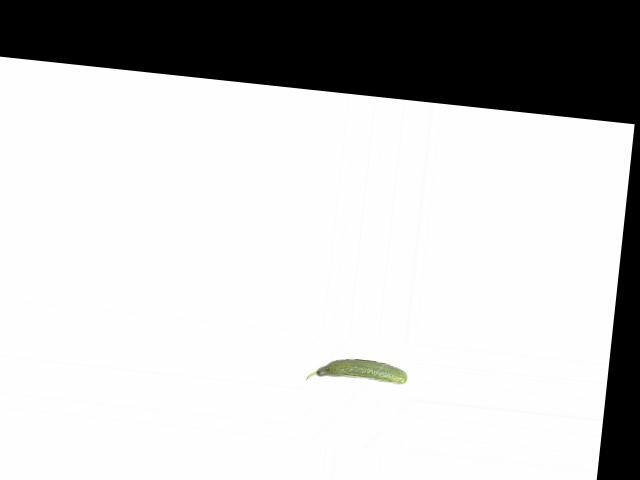cucumber: (305, 354, 408, 389)
